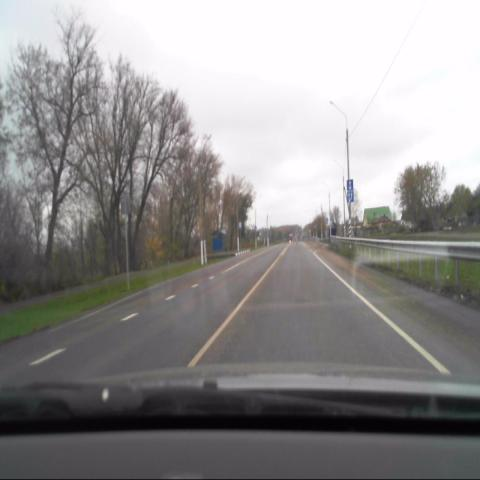5_14: (347, 178, 353, 190)
5_15_3: (346, 191, 354, 202)
